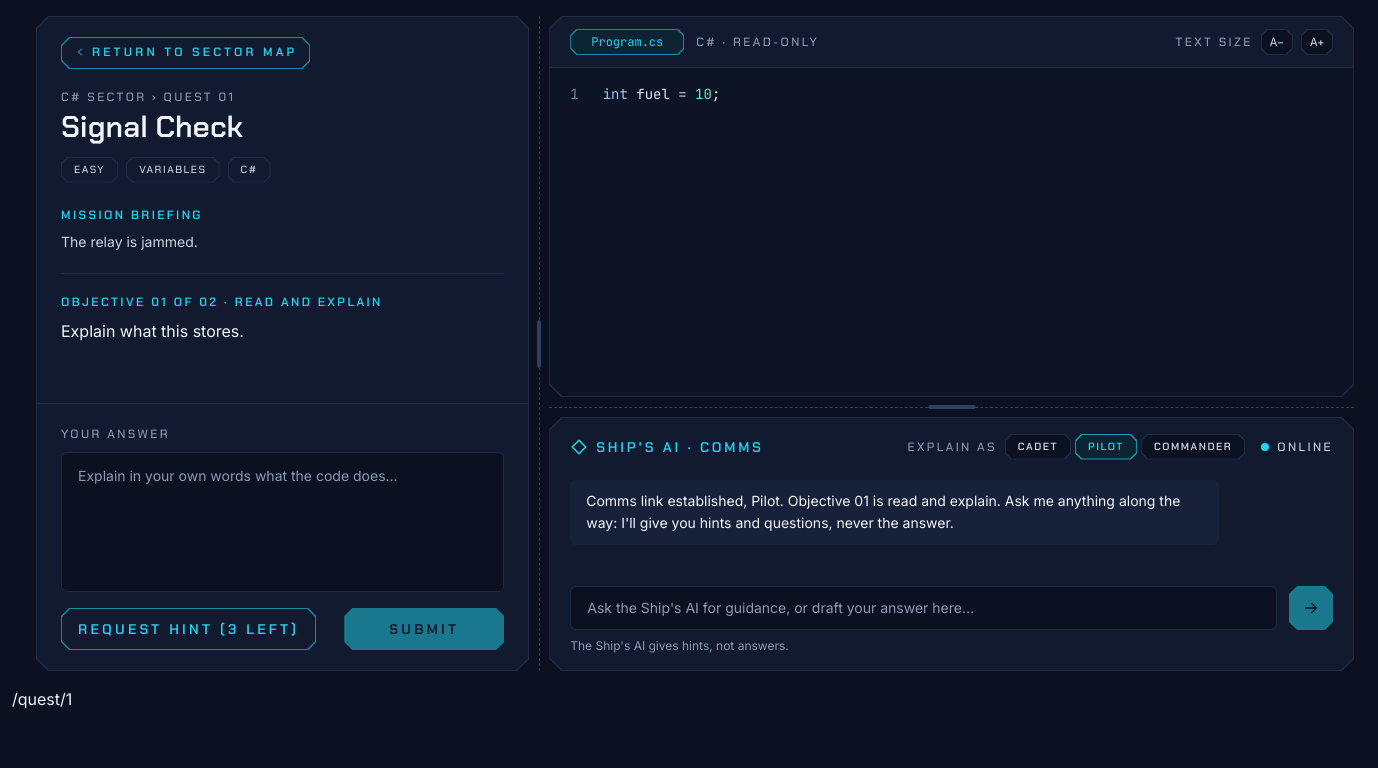
it: QuestPage › asks for hints and chats with the Ship’s AI
This screenshot has width=1378, height=768.
Expected: the heading "Signal Check" is shown, [61, 107, 243, 146]
Click the button "Request hint (3 left)" at (189, 629), box [61, 608, 316, 650]
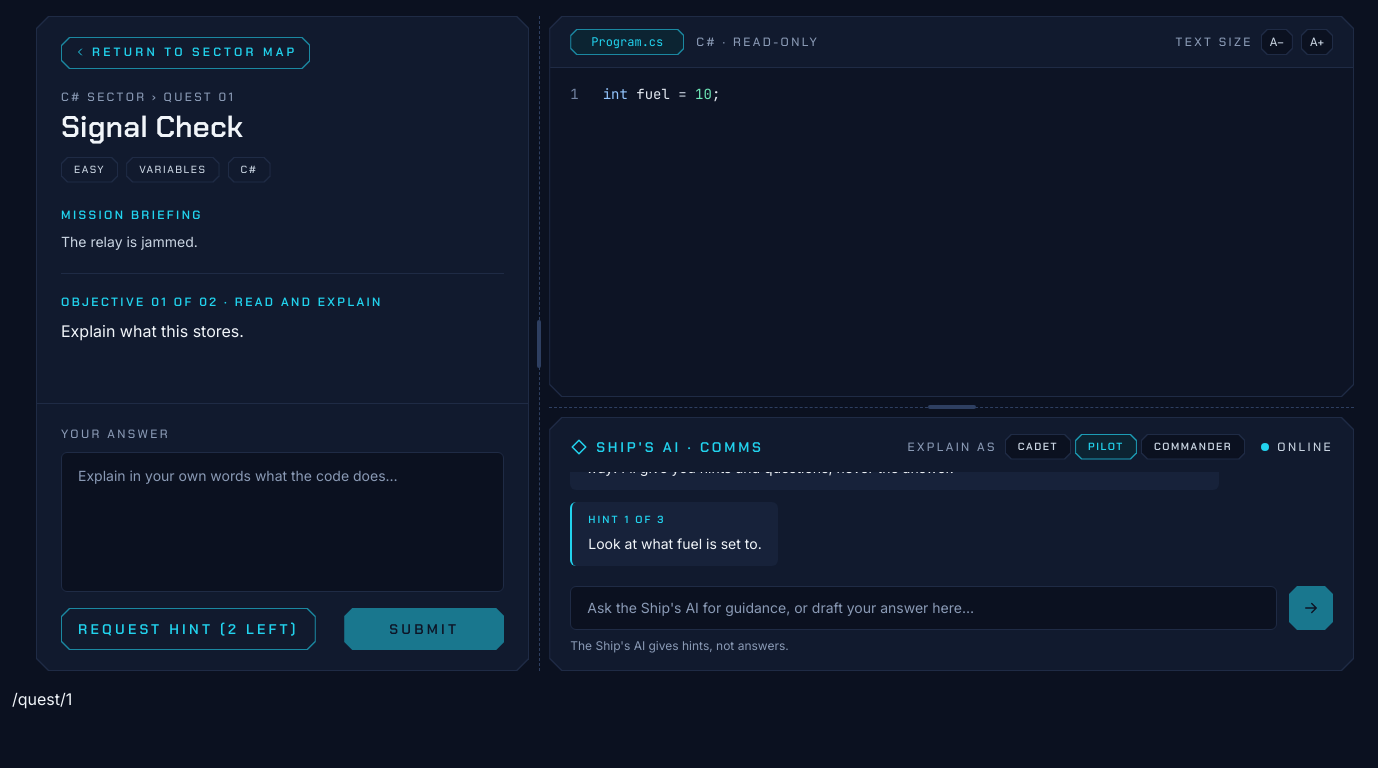
Result: the text "Look at what fuel is set to." is shown at [588, 535, 762, 552]
Result: the button "Request hint (2 left)" is shown at [61, 608, 316, 650]
Type "What is an int?" into the field named "Message the Ship's AI" at (924, 608), box [570, 586, 1277, 630]
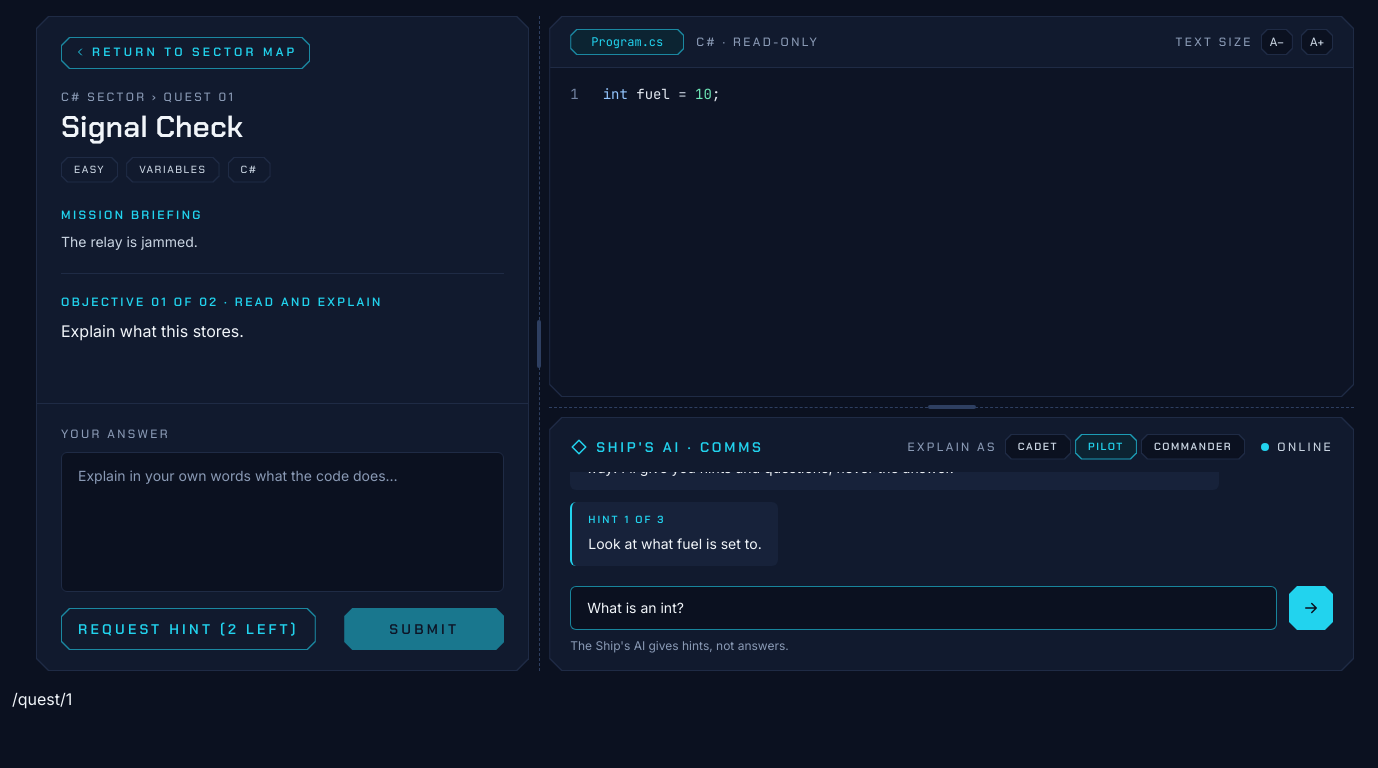
Click the button named "Send message" at (1311, 608), box [1289, 586, 1333, 630]
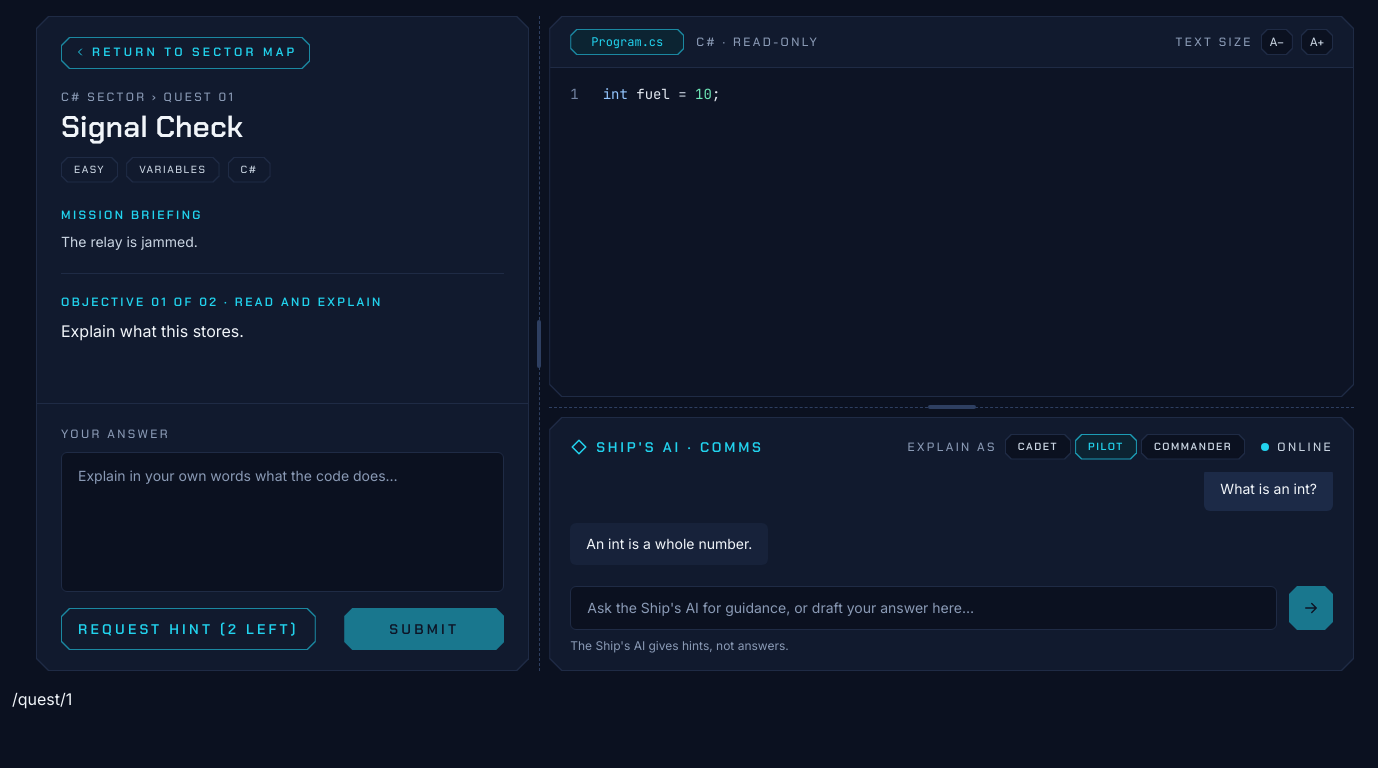
Result: the text "An int is a whole number." is shown at [570, 522, 768, 565]
